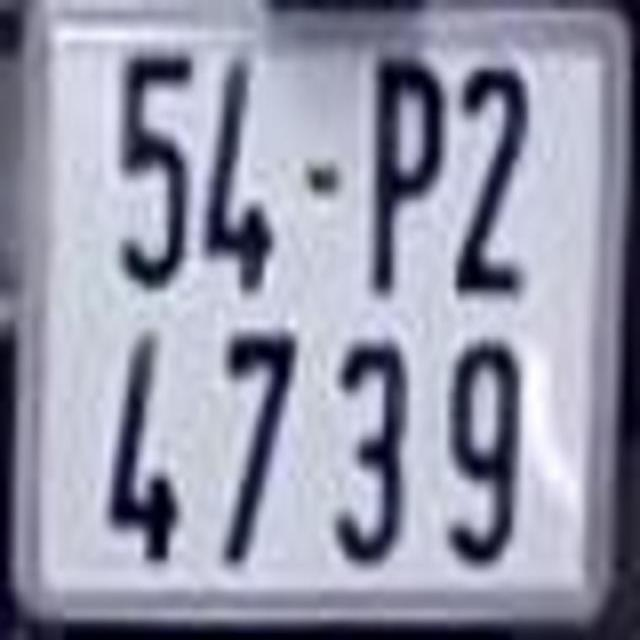2: (462, 62, 526, 300)
3: (333, 330, 406, 569)
4: (109, 326, 180, 564), (207, 59, 276, 296)
5: (118, 50, 186, 285)
7: (225, 322, 295, 559)
9: (449, 338, 514, 569)
P: (372, 51, 450, 306)
